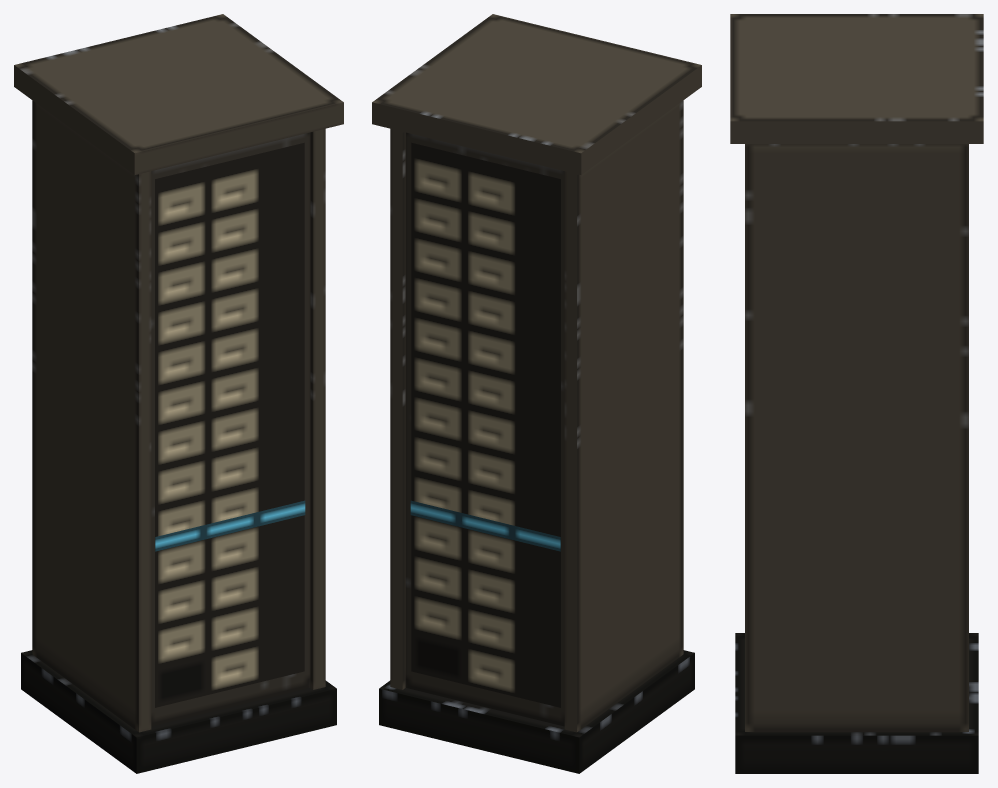
The model's file is DrawerSpire.obj.
3 views of the same model, side by side, from view 1: azimuth 30°, elevation 25°; view 2: azimuth 150°, elevation 25°; view 3: azimuth 270°, elevation 25° (orthographic). The views are drawn at different scales.
Visible parts, largest first — view 1: DrawerSpire; view 2: DrawerSpire; view 3: DrawerSpire.
Part boxes in pixels (x1,y1,x2,y2): DrawerSpire: (14,14,343,773); DrawerSpire: (372,14,701,773); DrawerSpire: (730,14,983,773).
Size of the model in its own units: 1.2 by 3.42 by 1.2.
1 material, 1 textured.
